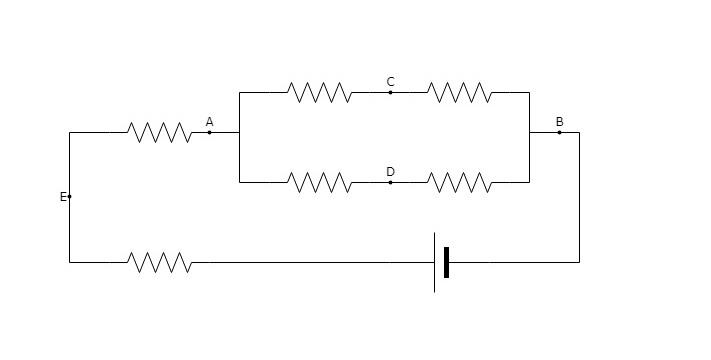resistor: (114, 221, 207, 282), (426, 68, 522, 110), (420, 151, 504, 193), (111, 108, 197, 148), (274, 74, 372, 105), (279, 160, 357, 197)
